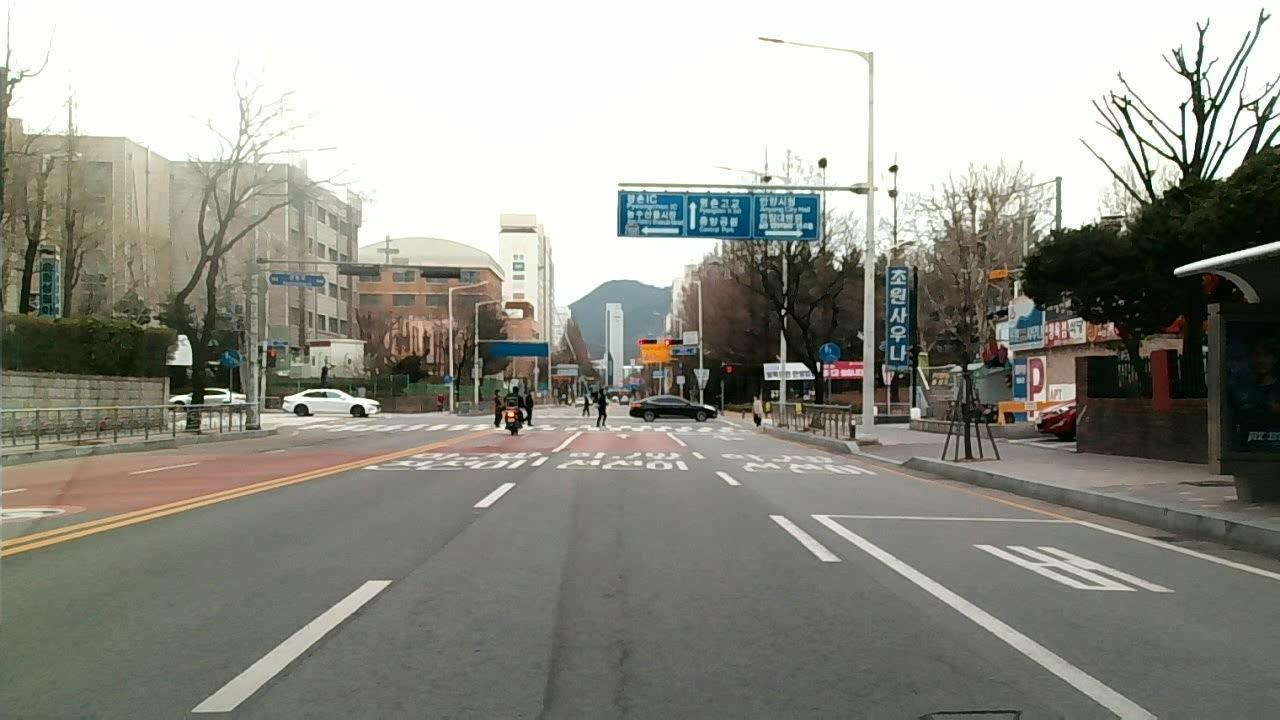banner: (759, 358, 880, 383)
erosion: (600, 562, 652, 720)
vcrack: (288, 520, 487, 665)
